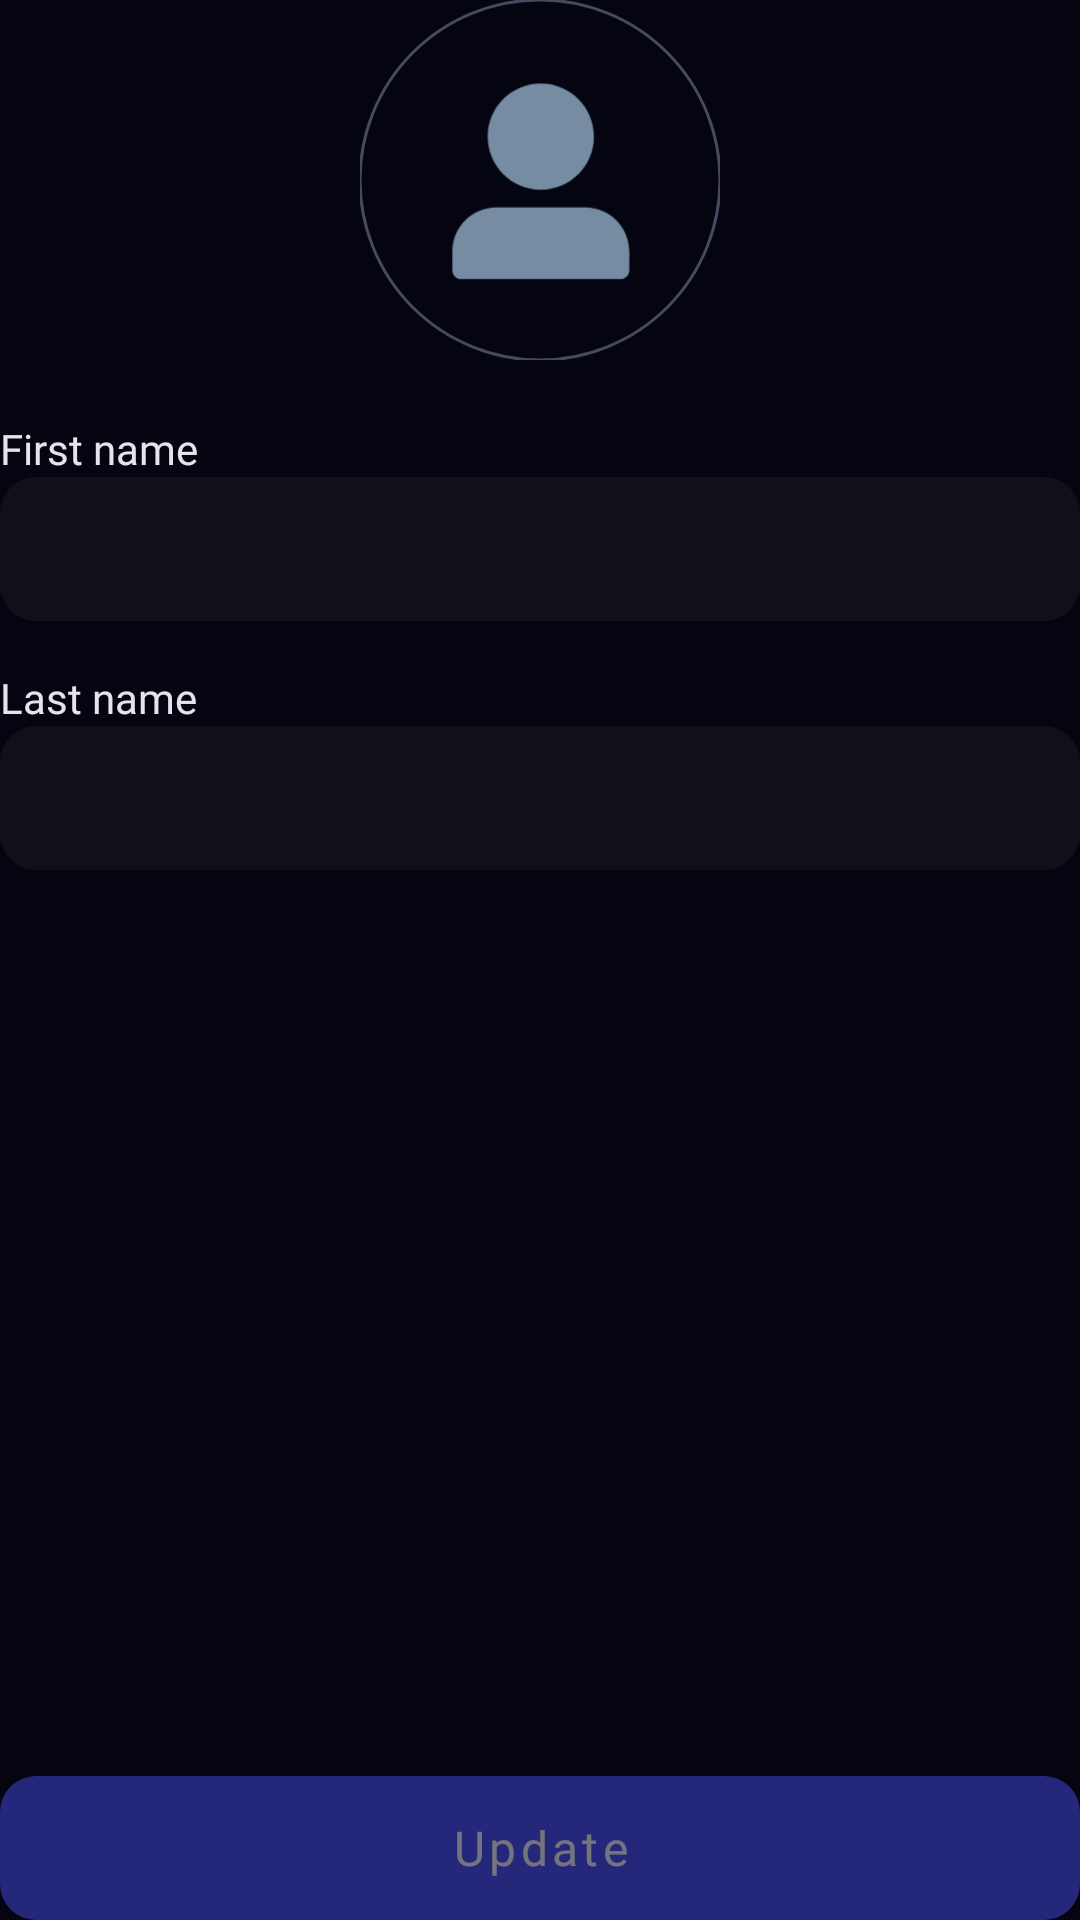

Named icons in this screenshot (1080w x 1920h) and their bounding boxes, (x1, y1, x2, y2):
user: (360, 0, 720, 360)
